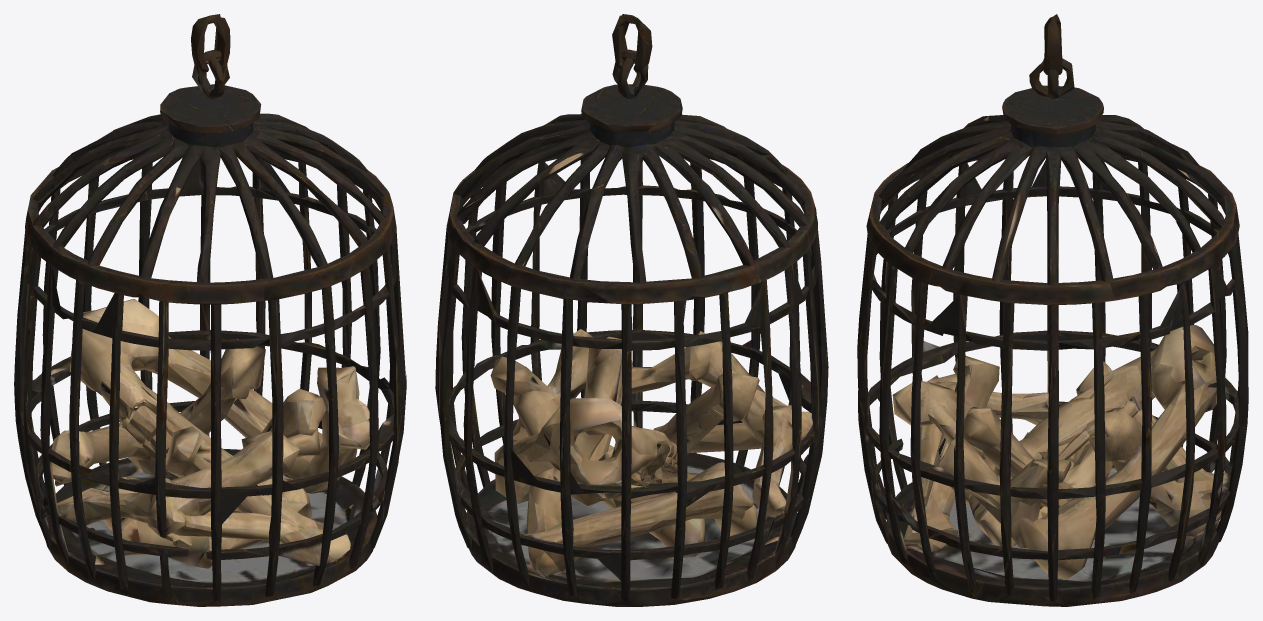
Rendered from mx_pr_hanging_cage.glb.
3 views of the same model, side by side, from view 1: azimuth 30°, elevation 25°; view 2: azimuth 150°, elevation 25°; view 3: azimuth 270°, elevation 25° (orthographic).
Size of the model in its own units: 1.29 by 1.9 by 1.29.
Materials: 1 (1 with a texture image).
